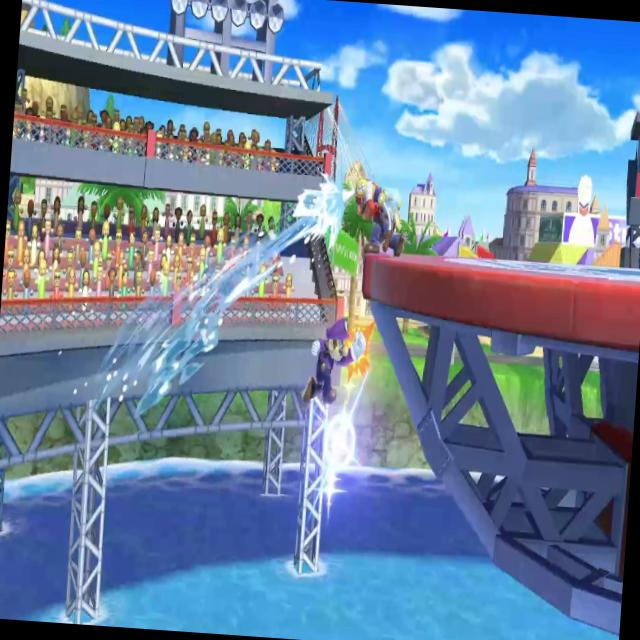Mario-DB: (330, 157, 412, 262)
Mario-UB: (298, 303, 371, 416)
